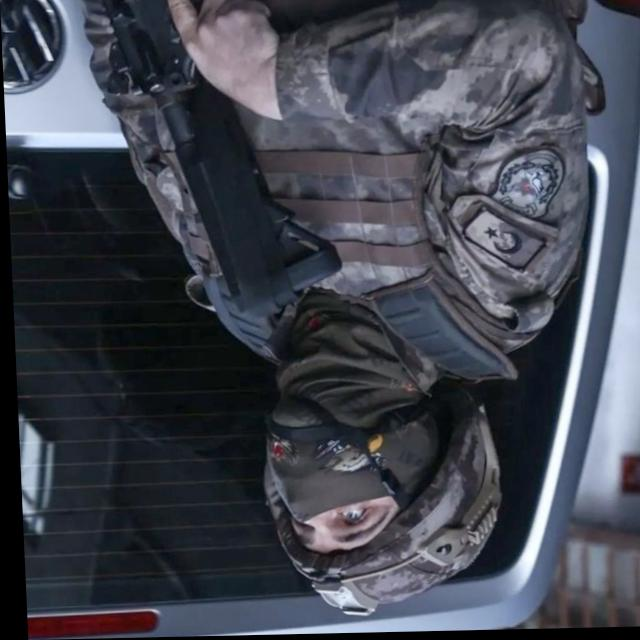poh_personel: (84, 0, 607, 624)
